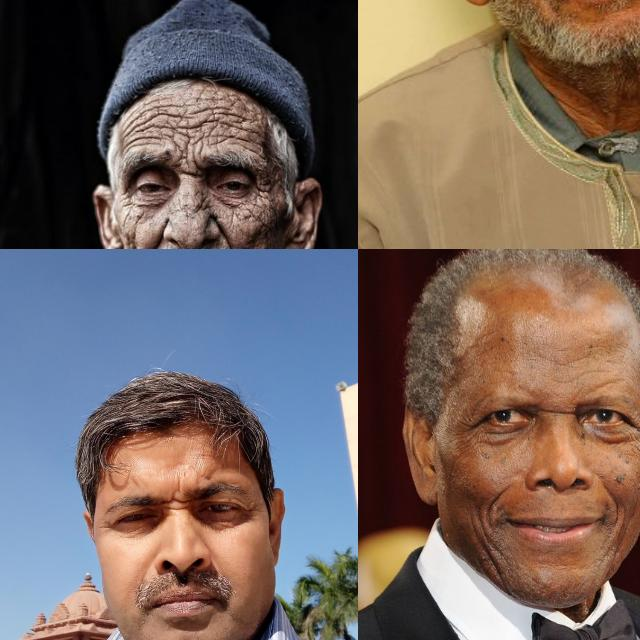bunny_line: (190, 190, 217, 213)
crows_feet: (456, 416, 479, 448), (253, 177, 275, 205), (631, 415, 640, 455)
forehead: (211, 107, 251, 143), (170, 107, 203, 147), (125, 117, 159, 145)
frown_line: (162, 486, 188, 514), (538, 402, 576, 421), (174, 156, 202, 178)
gummy_smile: (598, 478, 628, 518), (484, 480, 506, 518), (215, 217, 237, 249), (146, 228, 172, 249)
masseter: (472, 528, 503, 578), (604, 524, 622, 576)
